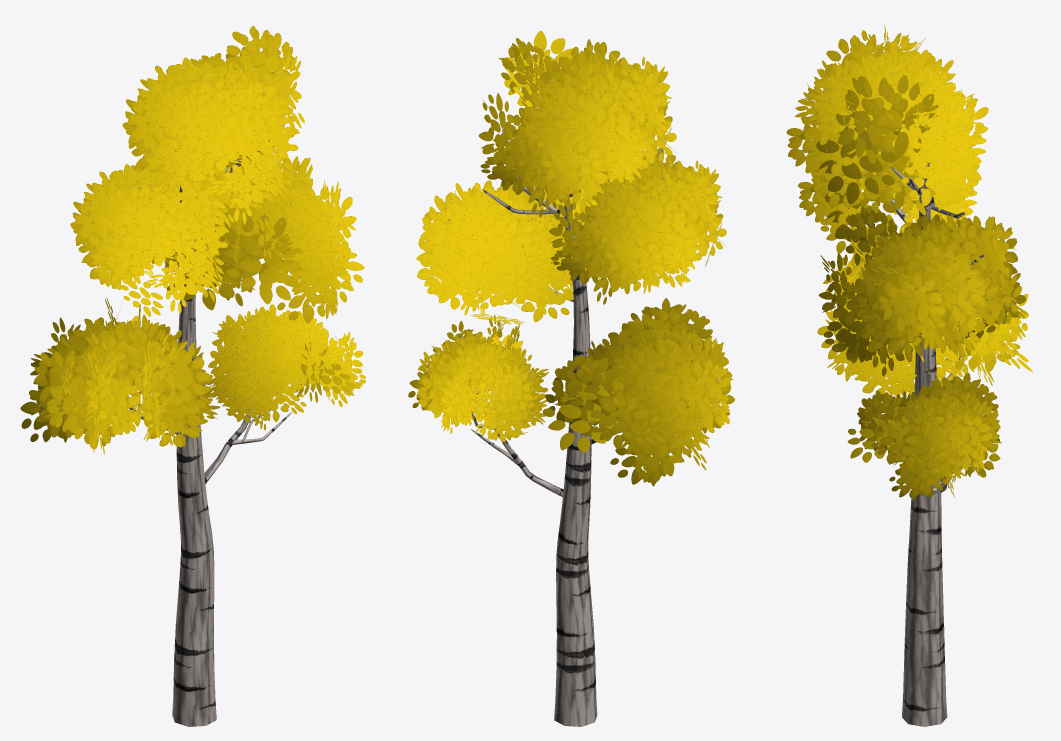
Rendered from BirchTree_1.gltf.
3 views of the same model, side by side, from view 1: azimuth 30°, elevation 25°; view 2: azimuth 150°, elevation 25°; view 3: azimuth 270°, elevation 25° (orthographic). The views are drawn at different scales.
Visible parts, largest first — view 1: BirchTree_1; view 2: BirchTree_1; view 3: BirchTree_1.
Boxes of the visible parts, <box> form: BirchTree_1: <box>20,26,365,726</box>; BirchTree_1: <box>408,31,734,726</box>; BirchTree_1: <box>786,25,1032,726</box>.
Size of the model in its own units: 2.71 by 5.45 by 1.94.
2 materials, 2 textured.
